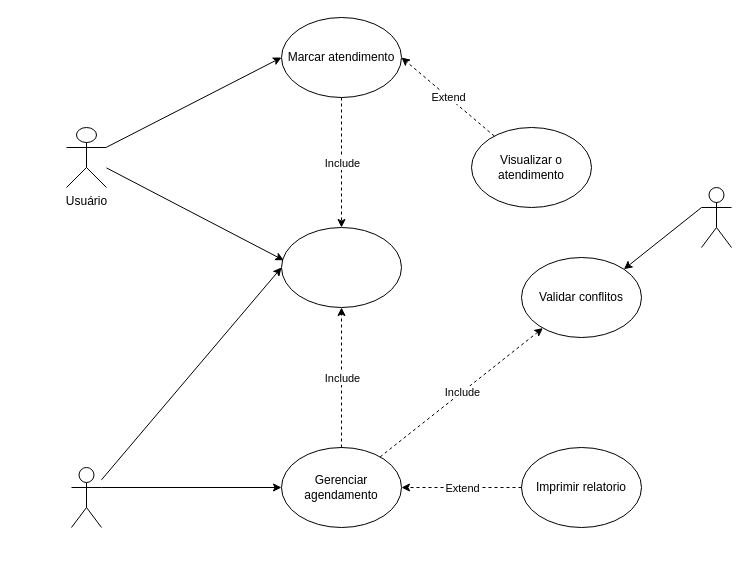
Image size: 755x566. Some labels were removed from this diagram. The shapes that lost their labels are listed below. From the top down, each one's centre as x and y in pixels, then its label:
point 716,217: Sistema
point 341,267: Autentica
point 86,497: Administrador/profissional
